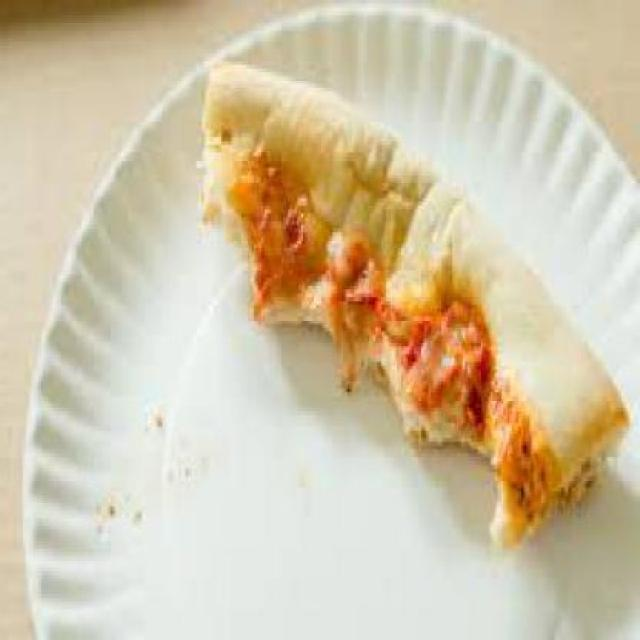BIODEGRADABLE: (200, 66, 629, 551)
